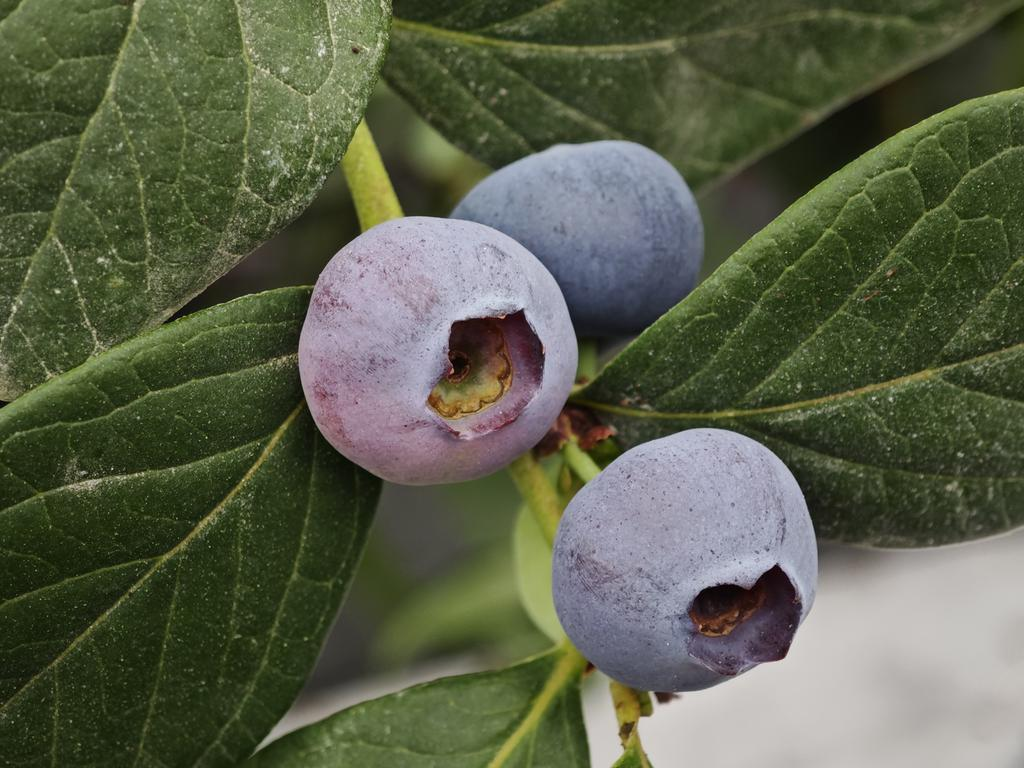RipeBlueBerry: (550, 423, 821, 696)
Semi-RipeBlueBerry: (295, 209, 582, 490)
